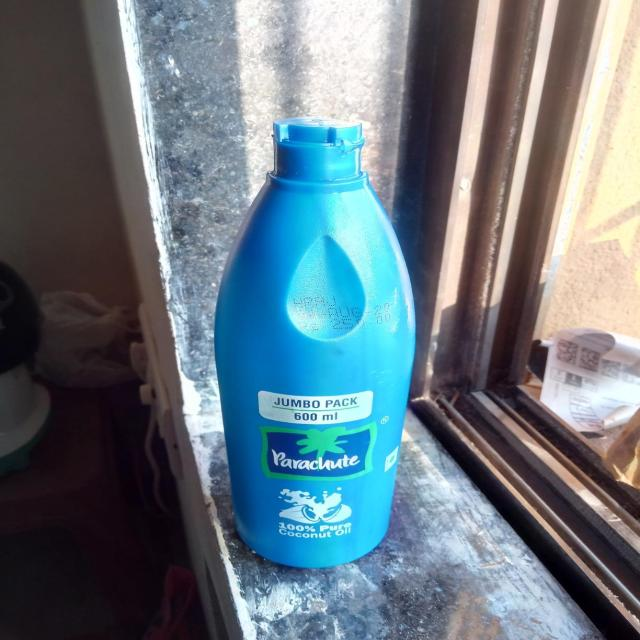parachute_oil: (213, 102, 423, 579)
